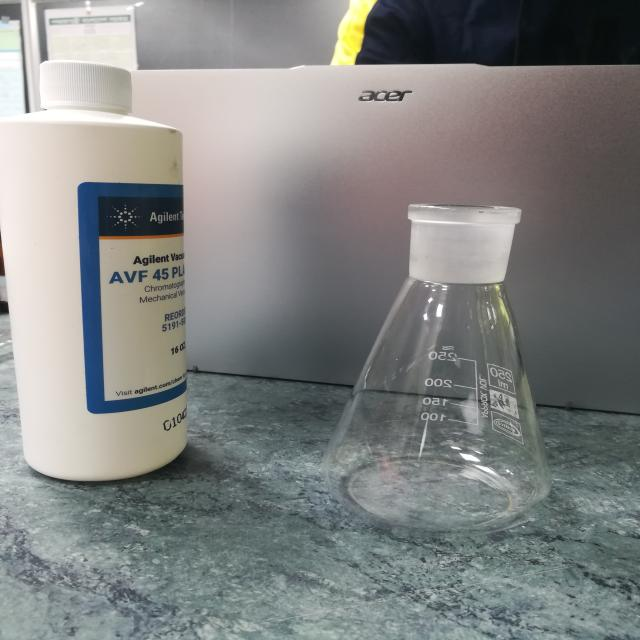Conical_Flask: (276, 131, 600, 568)
